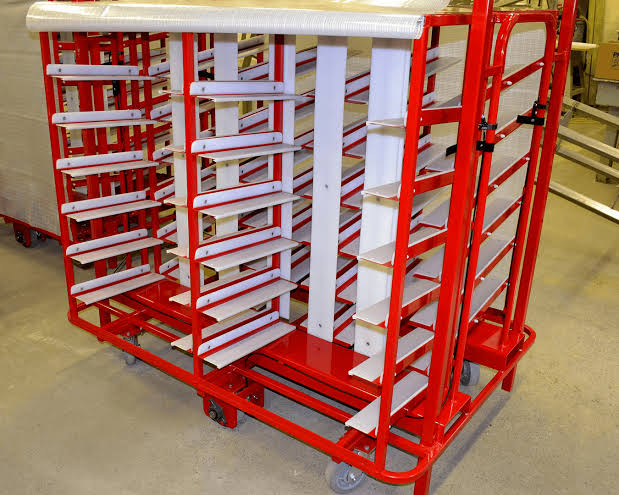Carts: (25, 1, 538, 494)
